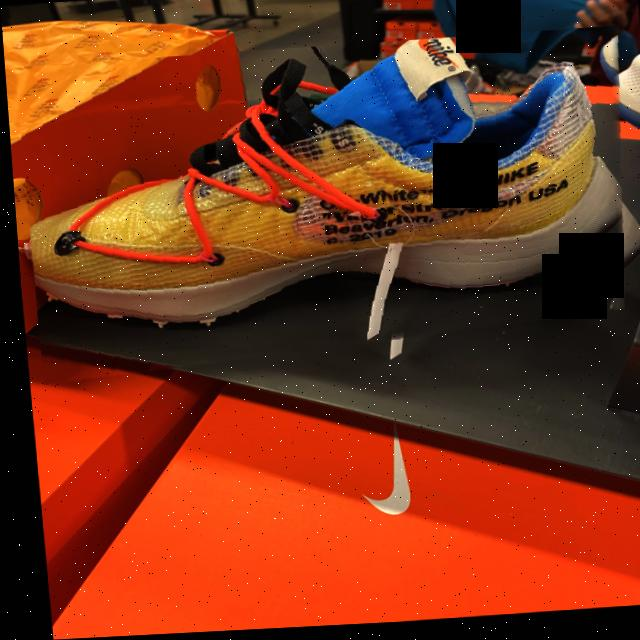shoe: (13, 31, 640, 386)
